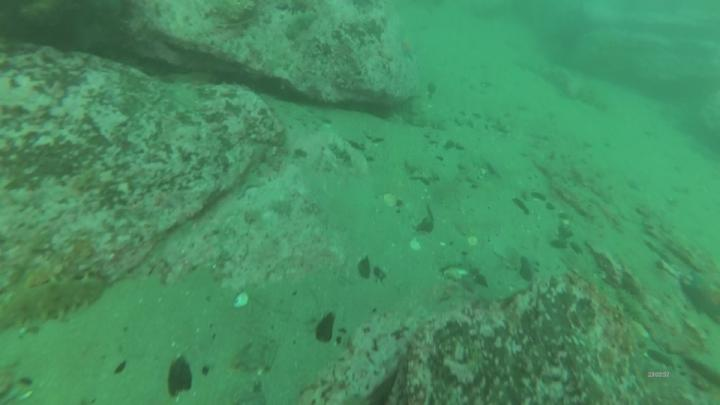holothurian: (2, 278, 107, 329)
